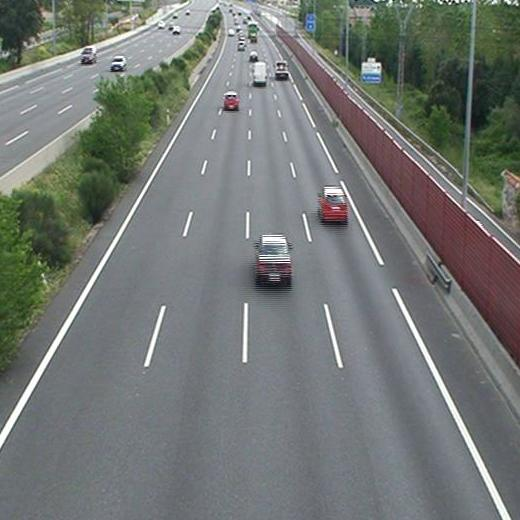bus: (247, 22, 258, 40)
car: (257, 237, 292, 278), (319, 189, 347, 221), (224, 93, 240, 109), (237, 42, 245, 50), (250, 51, 257, 60)
small-truck: (275, 62, 289, 79)
van: (253, 63, 267, 85)
